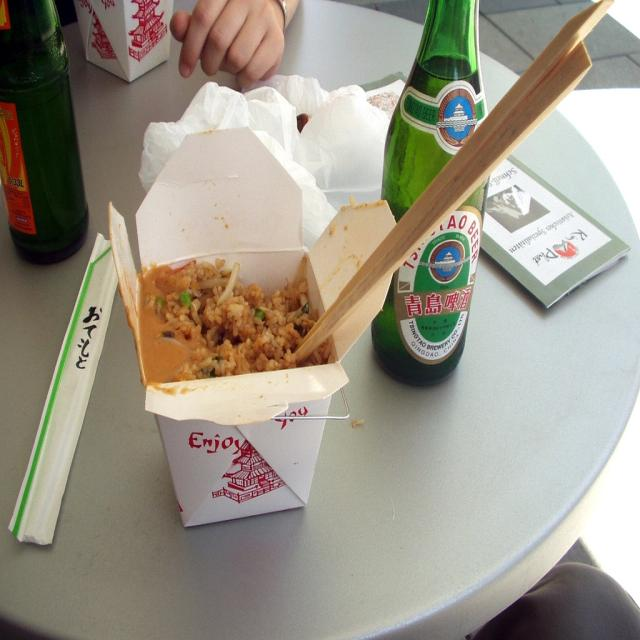tsingtao: (395, 206, 483, 365)
